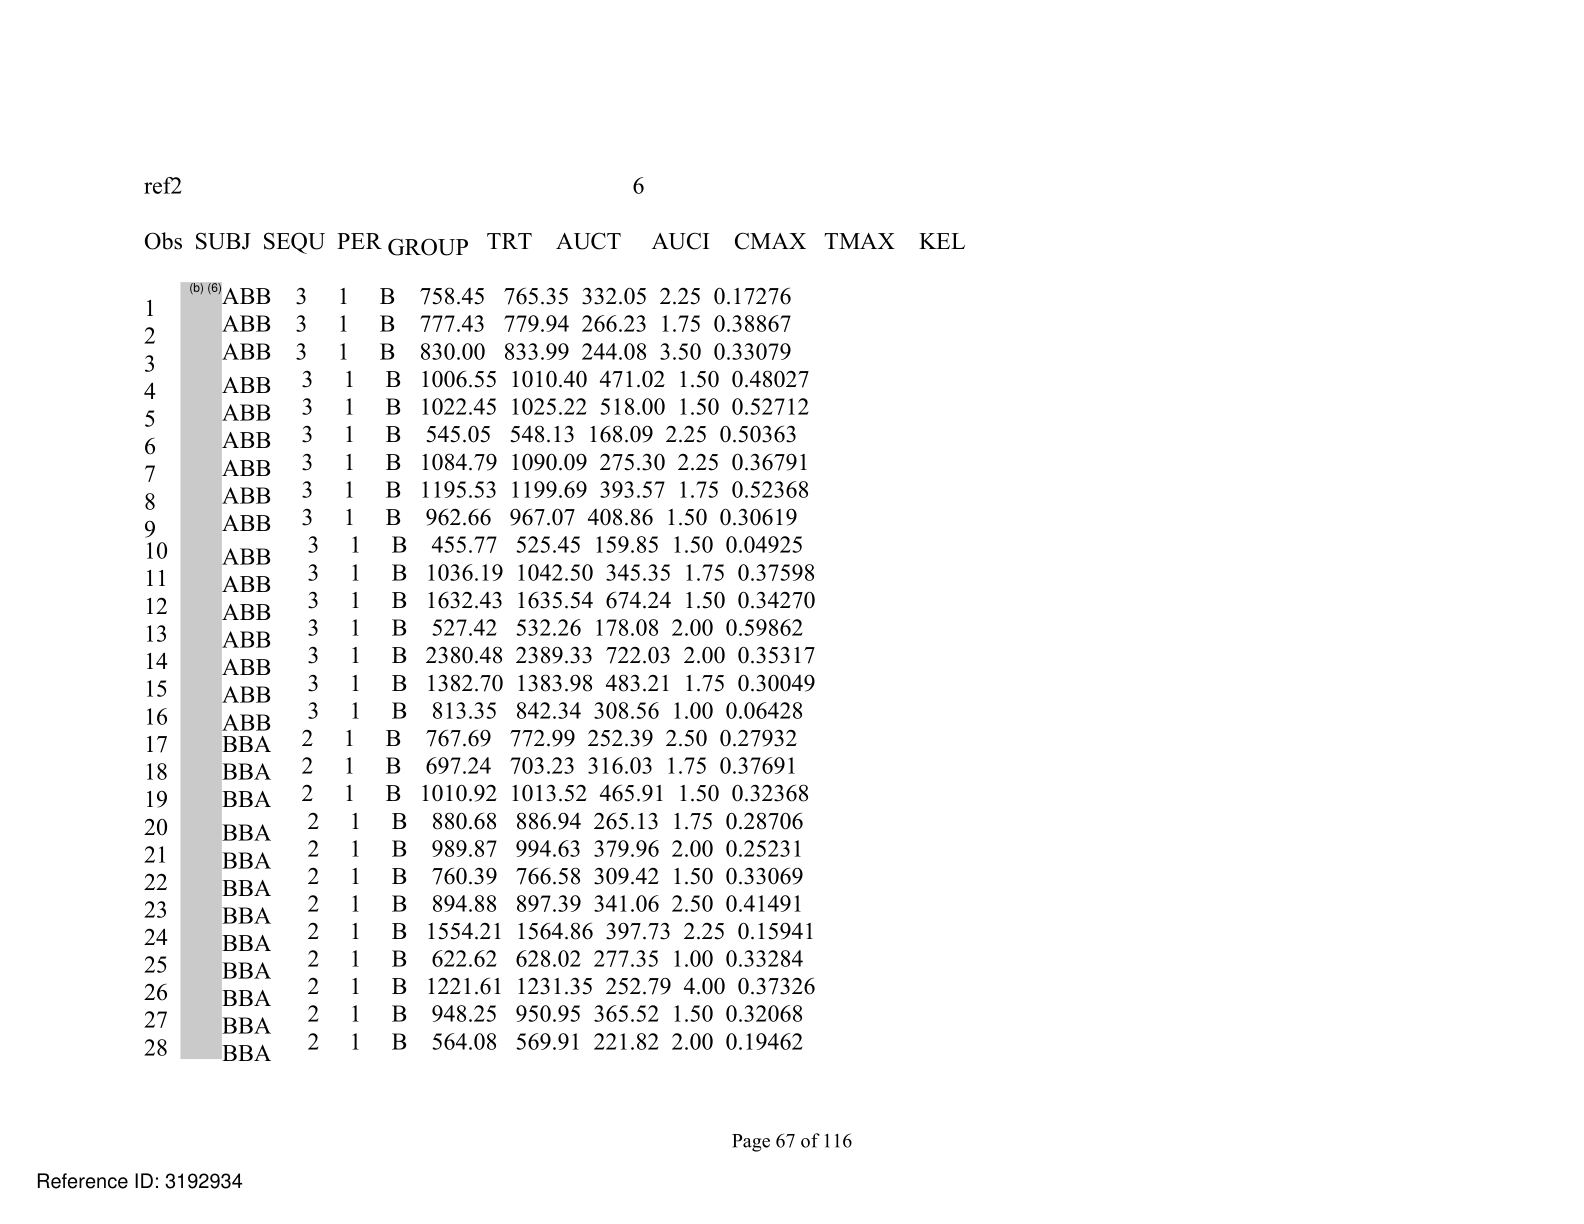nolines: (141, 228, 969, 1065)
